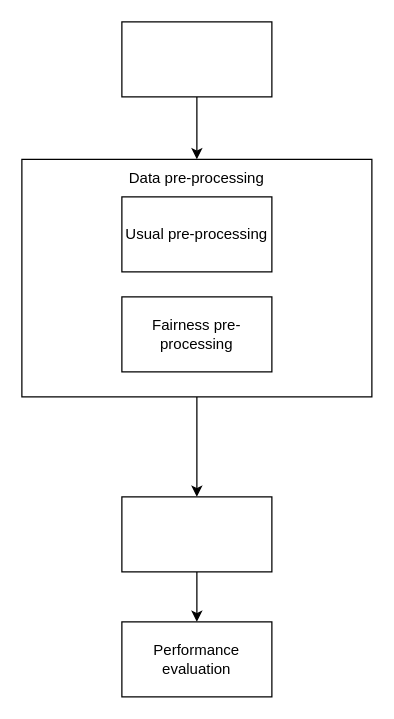
This 394x719 diagram has some shape labels left out. The shapes that lost their labels are listed below. From the top down, each one's centre as x and y in pixels, then its label:
the point at 196,59: Data acquisition
the point at 196,534: Modelling
